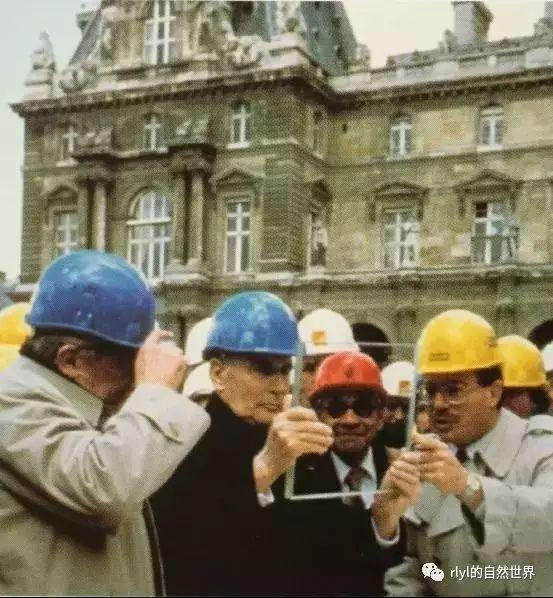helmet: (27, 248, 162, 352), (201, 290, 303, 365), (413, 310, 508, 371), (311, 352, 383, 401), (296, 308, 363, 355), (499, 336, 551, 390), (382, 361, 425, 403)
